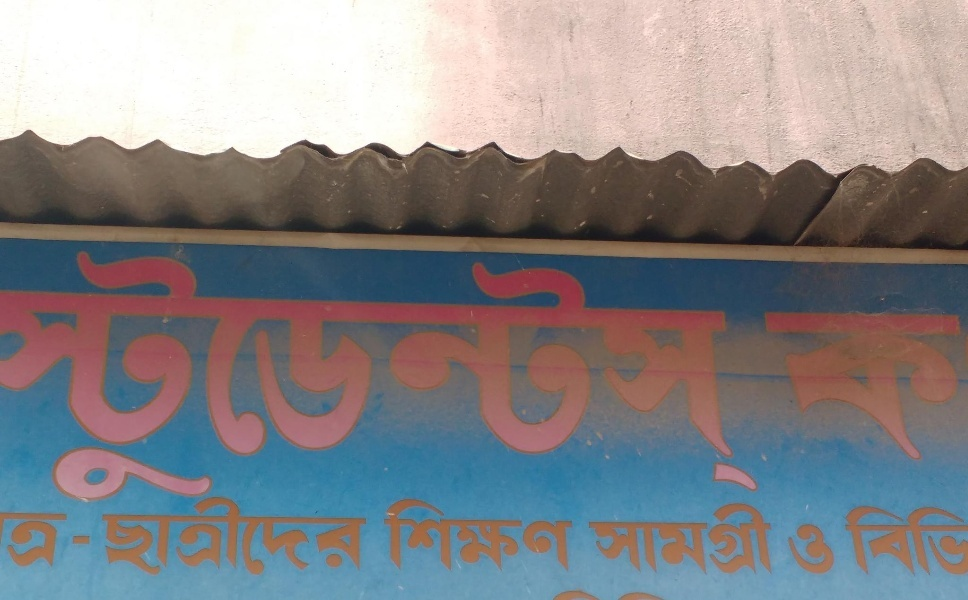text: (1, 241, 16, 499), (17, 241, 32, 499), (33, 241, 48, 499), (49, 241, 64, 499), (65, 241, 80, 499), (81, 241, 96, 499), (97, 241, 112, 499), (113, 241, 128, 499), (129, 241, 144, 499), (145, 241, 160, 499), (161, 241, 176, 499), (177, 241, 192, 499), (193, 241, 208, 499), (209, 241, 224, 499), (225, 241, 240, 499), (241, 241, 256, 499), (257, 241, 272, 499), (273, 241, 288, 499), (289, 241, 304, 499), (305, 241, 320, 499), (321, 241, 336, 499), (337, 241, 352, 499), (353, 241, 368, 499), (369, 241, 384, 499), (385, 241, 400, 499), (401, 241, 416, 499), (417, 241, 432, 499), (433, 241, 448, 499), (449, 241, 464, 499), (465, 241, 480, 499), (481, 241, 496, 499), (497, 241, 512, 499), (513, 241, 528, 499), (529, 241, 544, 499), (545, 241, 560, 499), (561, 241, 576, 499), (577, 241, 592, 499), (593, 241, 608, 499), (609, 241, 624, 499), (625, 241, 640, 499), (641, 241, 656, 499), (657, 241, 672, 499), (673, 241, 688, 499), (689, 241, 704, 499), (705, 241, 720, 499), (721, 241, 736, 499), (737, 241, 752, 499), (769, 290, 784, 479), (785, 290, 800, 479), (801, 290, 816, 479), (817, 290, 832, 479), (833, 290, 848, 479), (849, 290, 864, 479), (865, 290, 880, 479), (881, 290, 896, 479), (897, 290, 912, 479), (913, 290, 928, 479), (929, 290, 944, 479), (945, 290, 960, 479), (753, 241, 763, 499), (760, 290, 768, 479), (561, 494, 577, 580), (353, 496, 369, 581), (385, 494, 400, 580), (401, 494, 416, 580), (417, 494, 432, 580), (433, 494, 448, 580), (449, 494, 464, 580), (465, 494, 480, 580), (481, 494, 496, 580), (497, 494, 512, 580), (513, 494, 528, 580), (529, 494, 544, 580), (545, 494, 560, 580), (113, 496, 128, 581), (129, 496, 144, 581), (145, 496, 160, 581), (161, 496, 176, 581), (177, 496, 192, 581), (193, 496, 208, 581), (209, 496, 224, 581), (225, 496, 240, 581), (241, 496, 256, 581), (257, 496, 272, 581), (273, 496, 288, 581), (289, 496, 304, 581), (305, 496, 320, 581), (321, 496, 336, 581), (337, 496, 352, 581), (593, 498, 608, 579), (609, 498, 624, 579), (625, 498, 640, 579), (641, 498, 656, 579), (657, 498, 672, 579), (673, 498, 688, 579), (689, 498, 704, 579), (705, 498, 720, 579), (721, 498, 736, 579), (737, 498, 752, 579), (753, 498, 768, 579), (849, 501, 864, 579), (865, 501, 880, 579), (881, 501, 896, 579), (897, 501, 912, 579), (913, 501, 928, 579), (929, 501, 944, 579), (945, 501, 960, 579), (17, 505, 32, 570), (33, 505, 48, 570), (49, 505, 64, 570), (65, 505, 80, 570), (785, 511, 800, 575), (801, 511, 816, 575), (817, 511, 832, 575), (836, 501, 848, 579), (81, 505, 95, 570), (769, 498, 780, 579), (961, 290, 965, 479), (5, 505, 16, 570), (104, 496, 112, 581), (584, 498, 592, 579), (833, 511, 839, 575), (961, 501, 965, 579), (381, 494, 384, 580), (561, 583, 576, 598), (577, 583, 592, 598), (593, 583, 608, 598), (609, 583, 624, 598), (625, 583, 640, 598), (641, 583, 656, 598), (657, 583, 672, 598), (549, 583, 560, 598), (783, 511, 784, 575)
